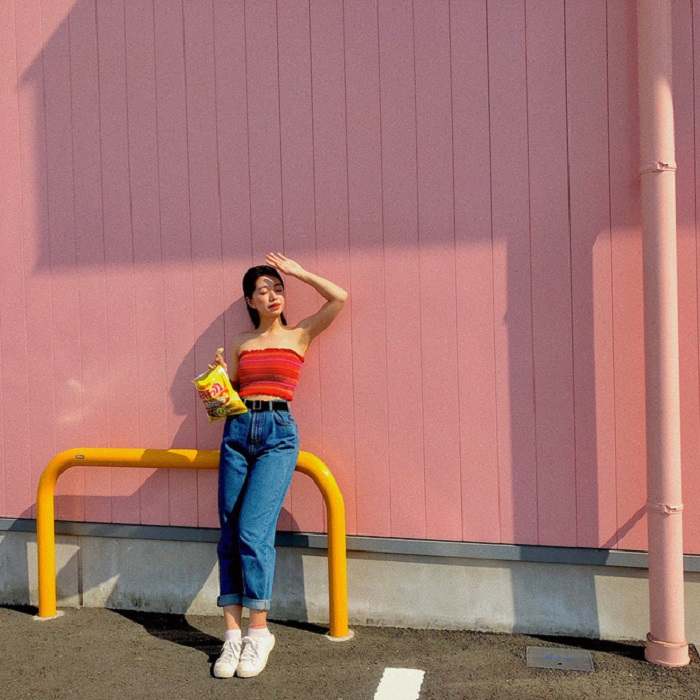person: (208, 262, 346, 677)
